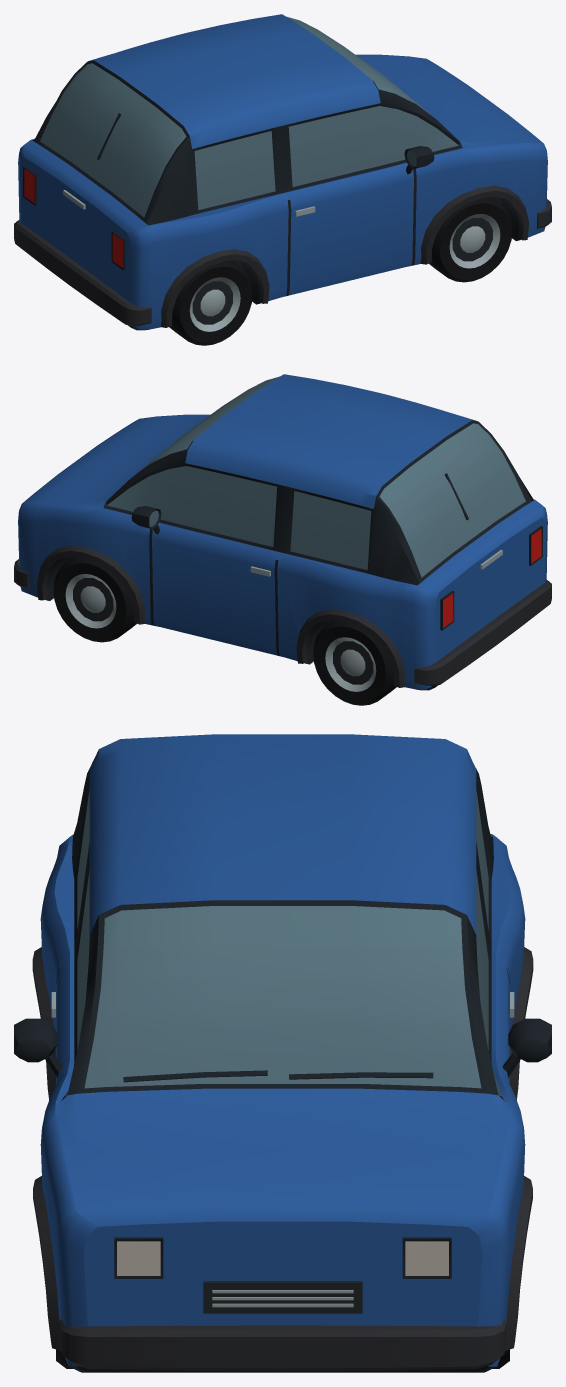
Rendered from cute-car-hatchback.glb.
3 renders of one model, top to bottom at view 1: azimuth 30°, elevation 25°; view 2: azimuth 150°, elevation 25°; view 3: azimuth 270°, elevation 25°, orthographic. The views are drawn at different scales.
Visible parts, largest first — view 1: Cute-car-hatchbackBody; view 2: Cute-car-hatchbackBody; view 3: Cute-car-hatchbackBody.
Boxes of the visible parts, left/top/right/bottom form: Cute-car-hatchbackBody: left=14, top=14, right=551, bottom=345; Cute-car-hatchbackBody: left=14, top=374, right=551, bottom=705; Cute-car-hatchbackBody: left=14, top=734, right=551, bottom=1372.
Bounding box in the file's own units: 2.92 × 1.42 × 1.75.
Materials: 1 (1 with a texture image).
